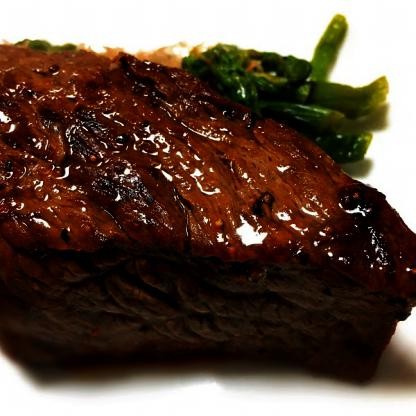Carne: (1, 35, 406, 398)
